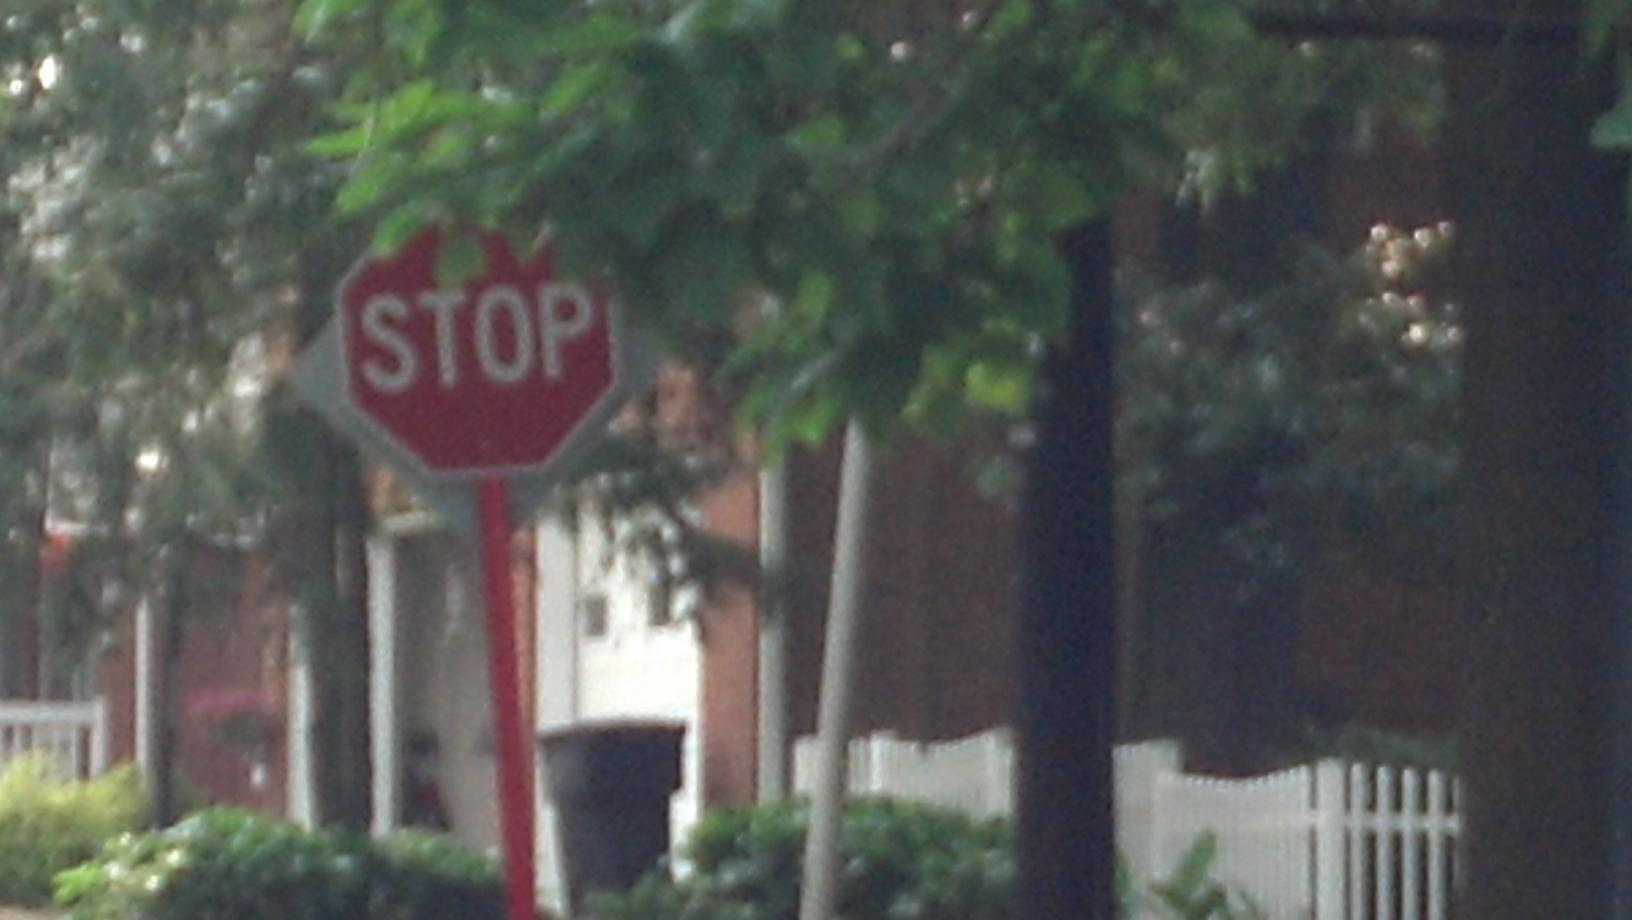stop: (321, 199, 625, 471)
